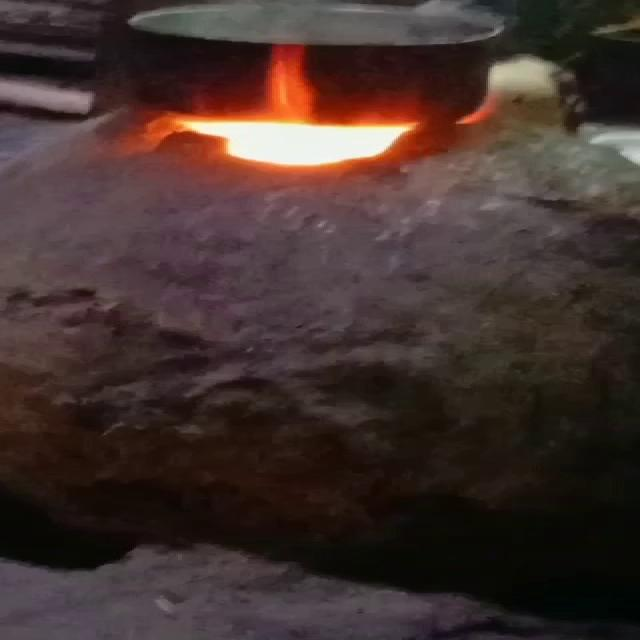Fire: (156, 60, 416, 167)
